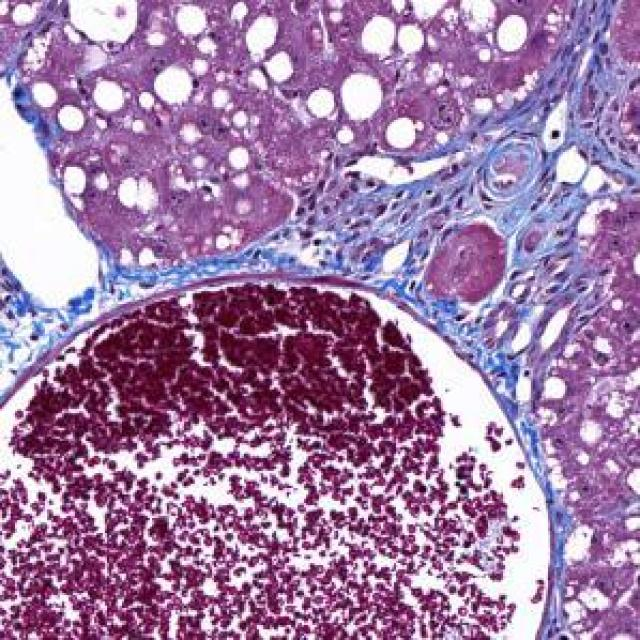fibrosis: (298, 122, 627, 313)
